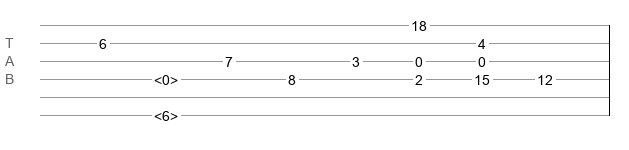0: (415, 54, 423, 64), (478, 54, 486, 64)
12: (537, 72, 553, 82)
15: (474, 72, 490, 82)
18: (411, 18, 427, 28)
2: (415, 72, 423, 82)
3: (352, 54, 360, 64)
4: (478, 36, 486, 46)
6: (99, 36, 107, 46)
7: (225, 54, 233, 64)
8: (288, 72, 296, 82)
harmonic: (154, 72, 178, 82), (154, 108, 178, 118)
